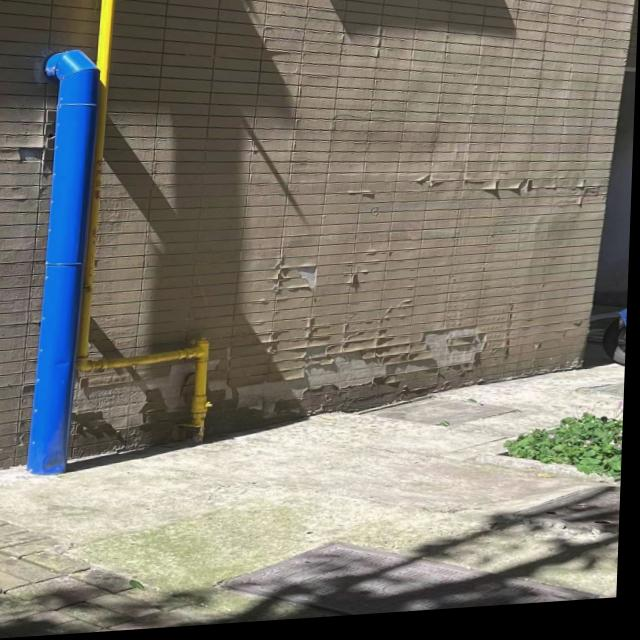spalling: (214, 304, 511, 425), (333, 155, 609, 226), (73, 360, 193, 439), (0, 103, 57, 198), (249, 255, 332, 309)
